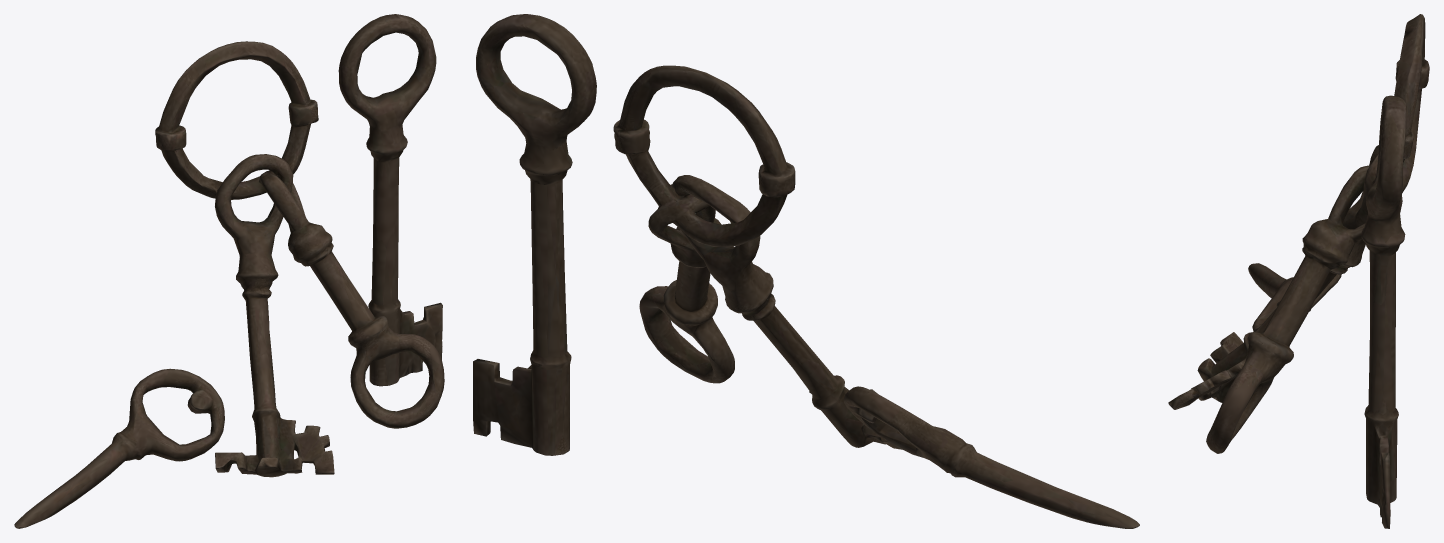
The model's file is keys.glb.
3 renders of one model, left to right at view 1: azimuth 30°, elevation 25°; view 2: azimuth 150°, elevation 25°; view 3: azimuth 270°, elevation 25°, orthographic. The views are drawn at different scales.
Visible parts, largest first — view 1: Mesh_0; view 2: Mesh_0; view 3: Mesh_0.
Part boxes in pixels (x1,y1,x2,y2): Mesh_0: (14, 14, 444, 528); Mesh_0: (473, 14, 1139, 528); Mesh_0: (1168, 14, 1429, 528).
Size of the model in its own units: 1.9 by 1.34 by 0.7886.
Materials: 1 (1 with a texture image).
